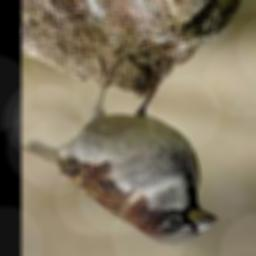Sparrow: (21, 56, 219, 244)
